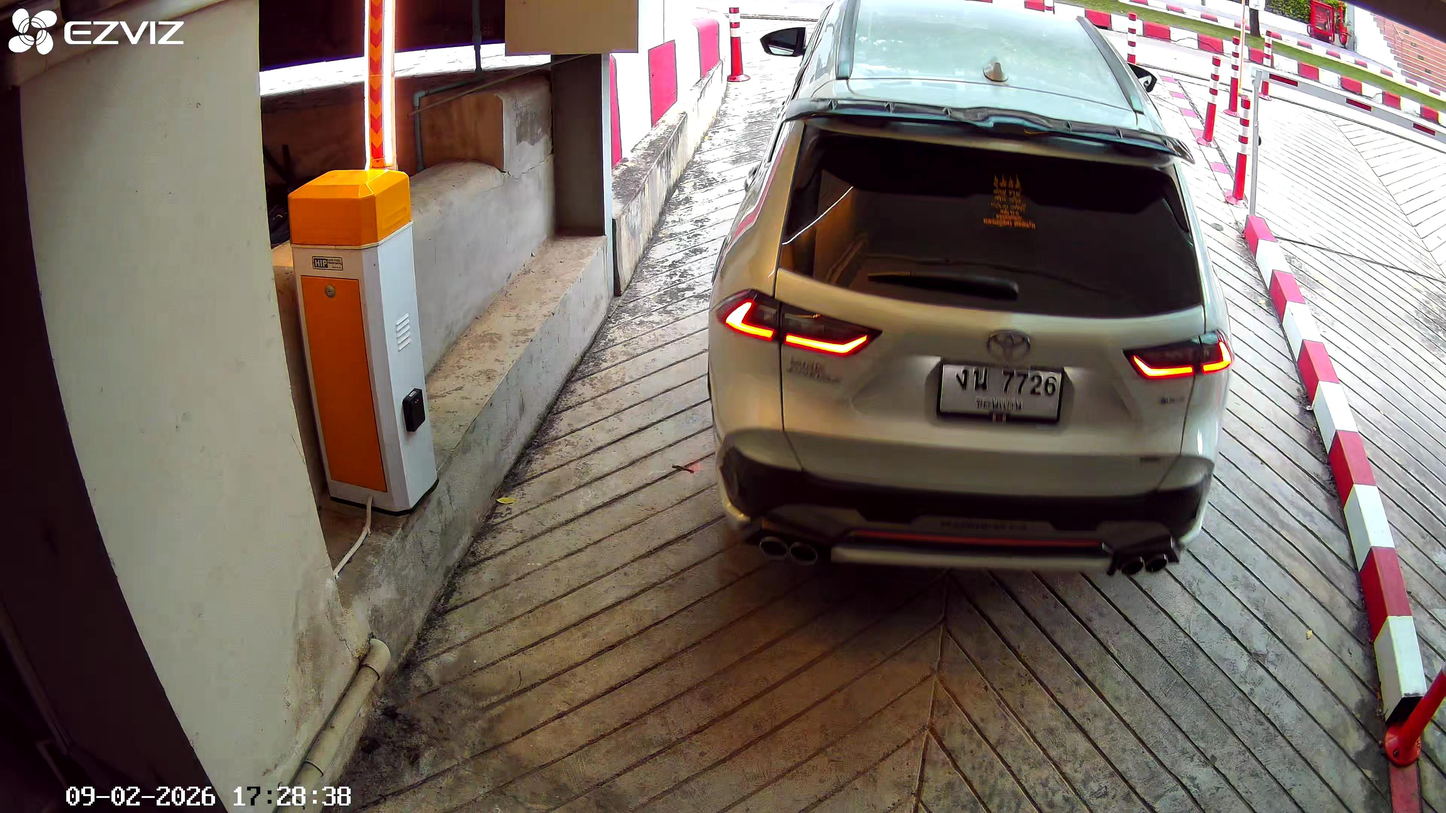car: (705, 5, 1230, 580)
license-plate: (931, 355, 1069, 426)
